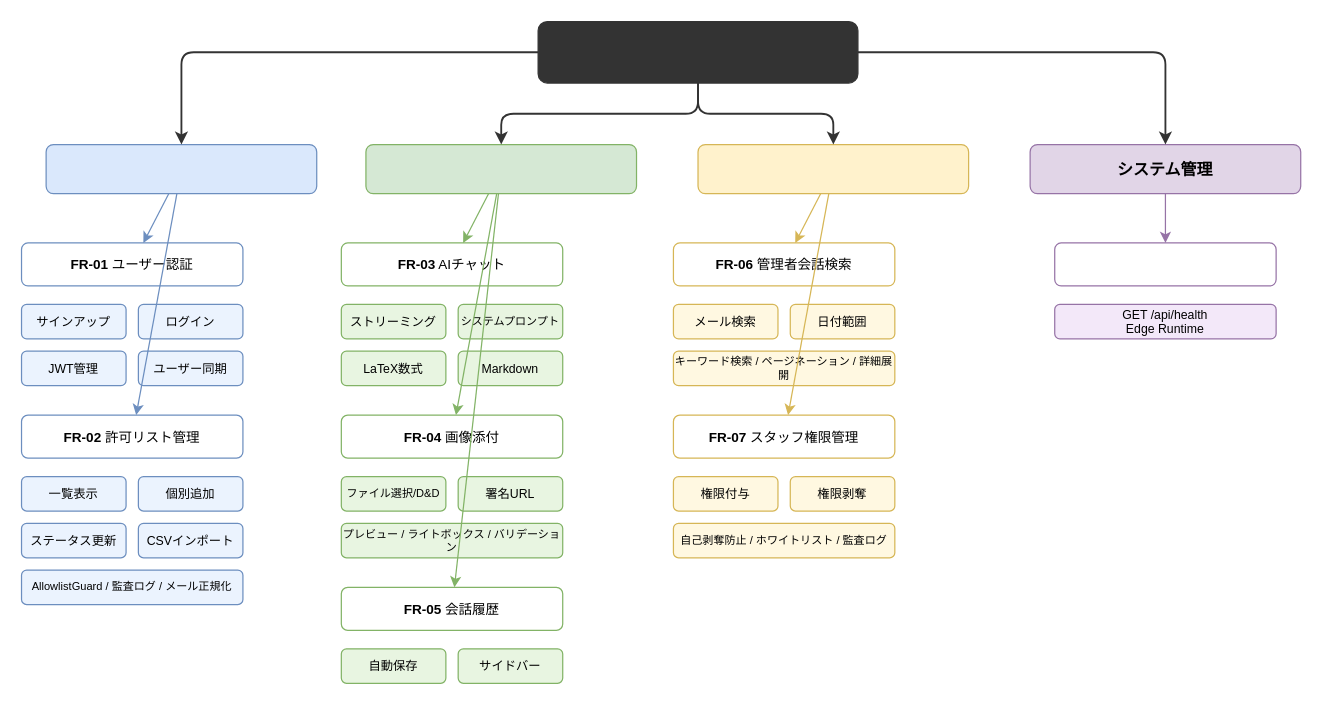
This 1322x705 diagram has some shape labels left out. Each missing label, with the centre of its shape:
"FR-08 ヘルスチェック" goes at point 1164,264.
"marubo_ai 塾向けAIチャットボット" goes at point 697,51.
"チャット機能" goes at point 501,168.
"管理機能" goes at point 833,168.
"認証・アクセス制御" goes at point 181,168.
